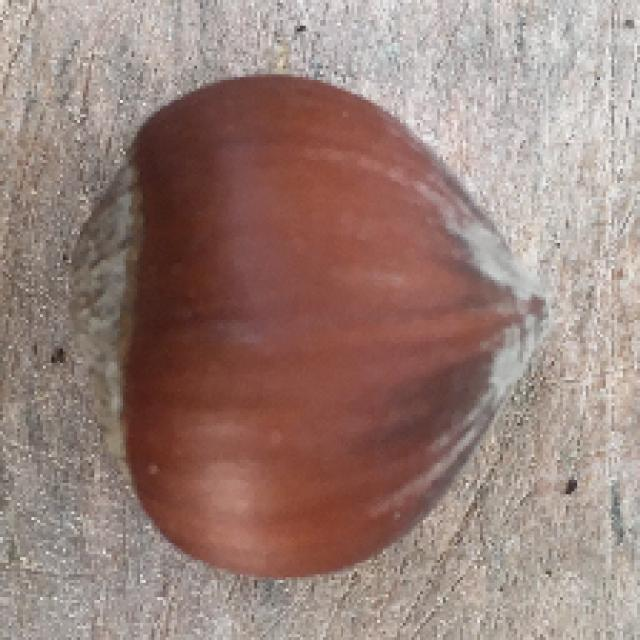qualityHazelnut: (66, 71, 546, 569)
